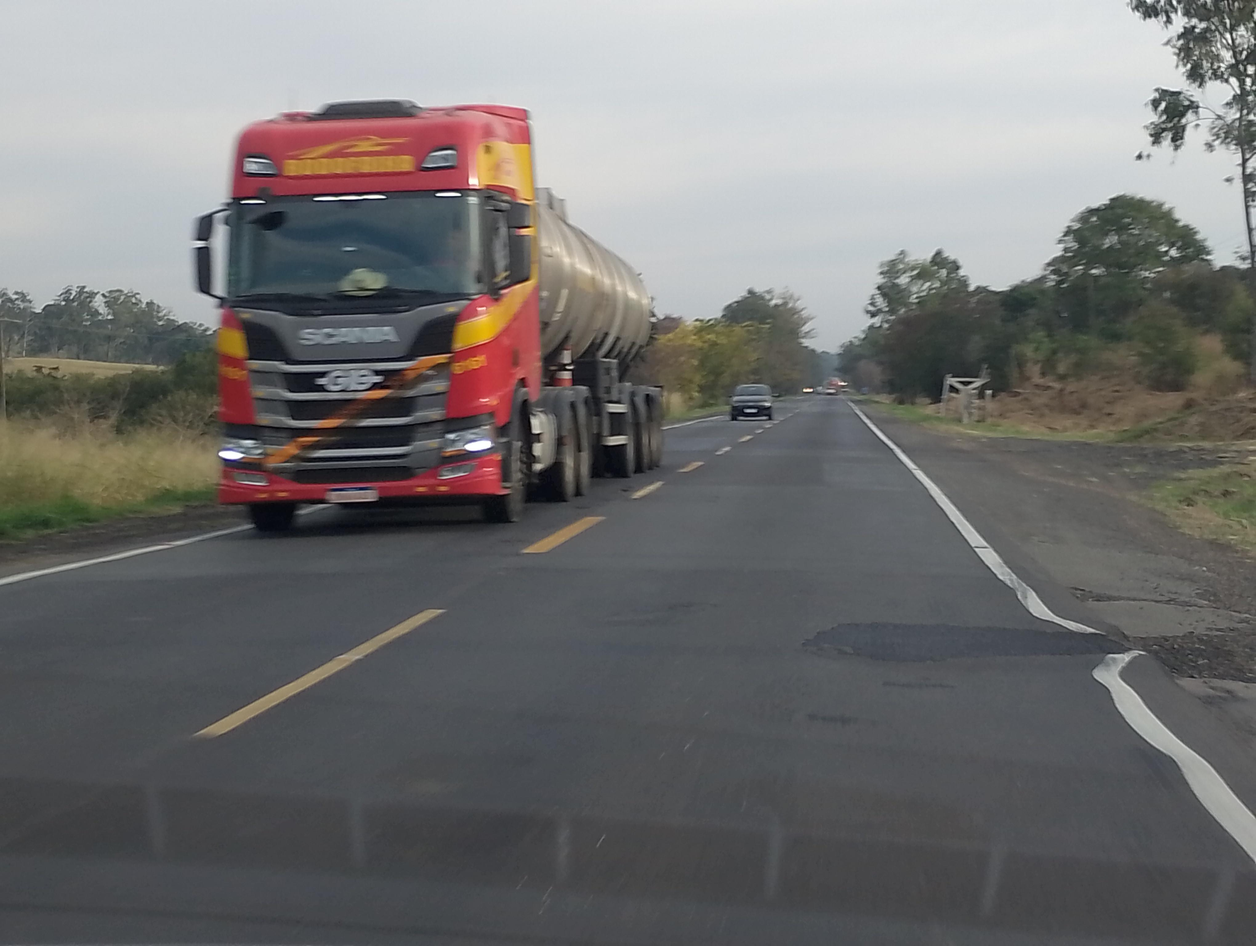PARCHE: (803, 622, 1117, 663)
